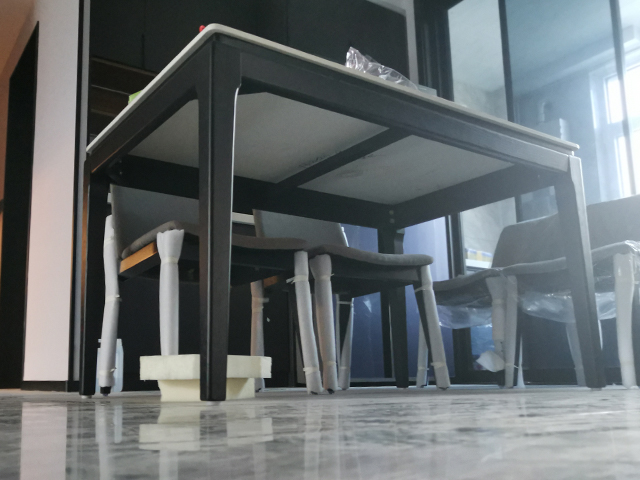stool: (94, 185, 318, 397), (254, 211, 445, 392), (495, 199, 640, 392)
table: (77, 21, 609, 402)
